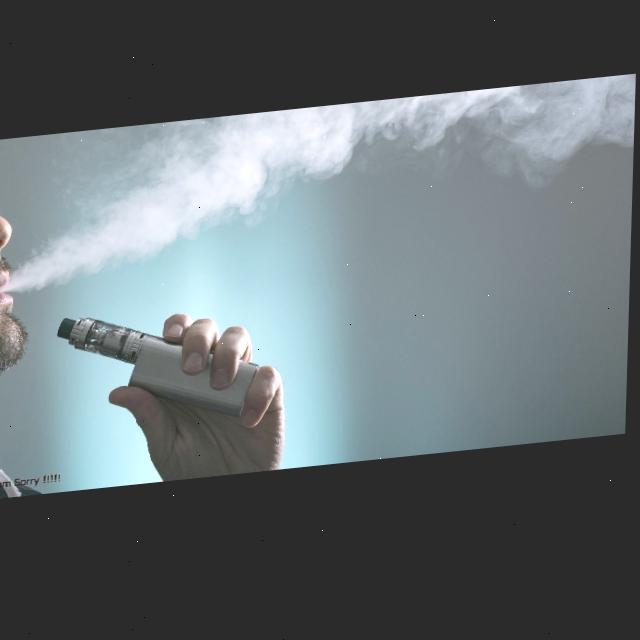vape: (57, 304, 263, 438)
